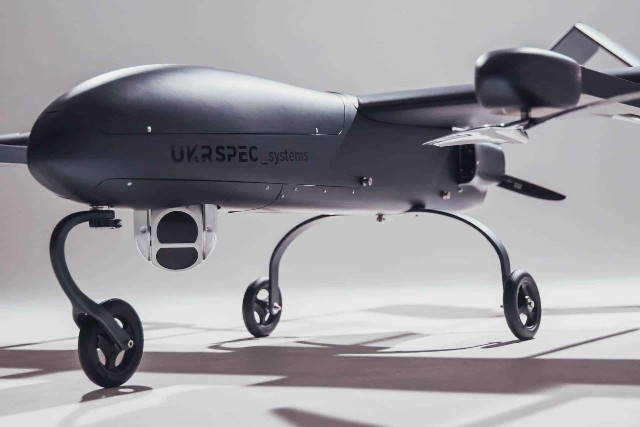maybay_khongnguoilai: (17, 30, 638, 345)
